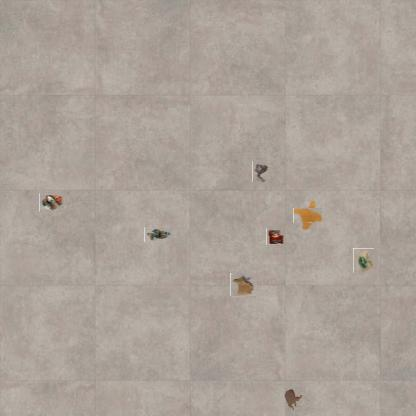dirty: (231, 272, 257, 297), (353, 248, 374, 273), (39, 192, 64, 212), (144, 226, 171, 243), (252, 160, 269, 182), (267, 227, 285, 246)
liquid: (297, 204, 319, 227), (284, 388, 304, 410)
